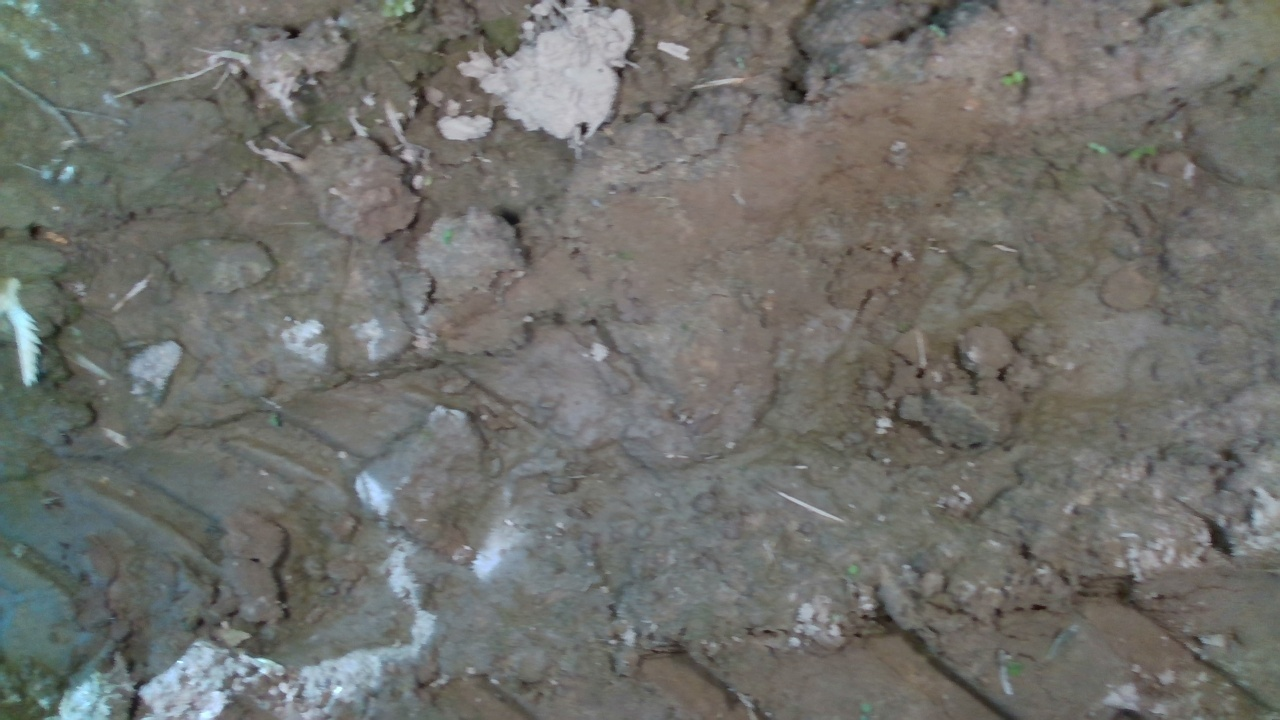weed: (998, 69, 1025, 85), (1085, 141, 1110, 155)
